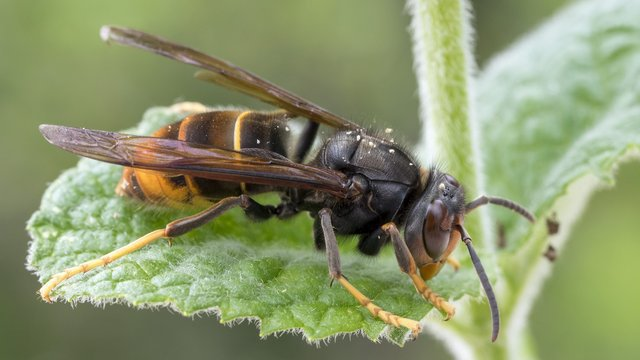hornet: (79, 80, 528, 287)
